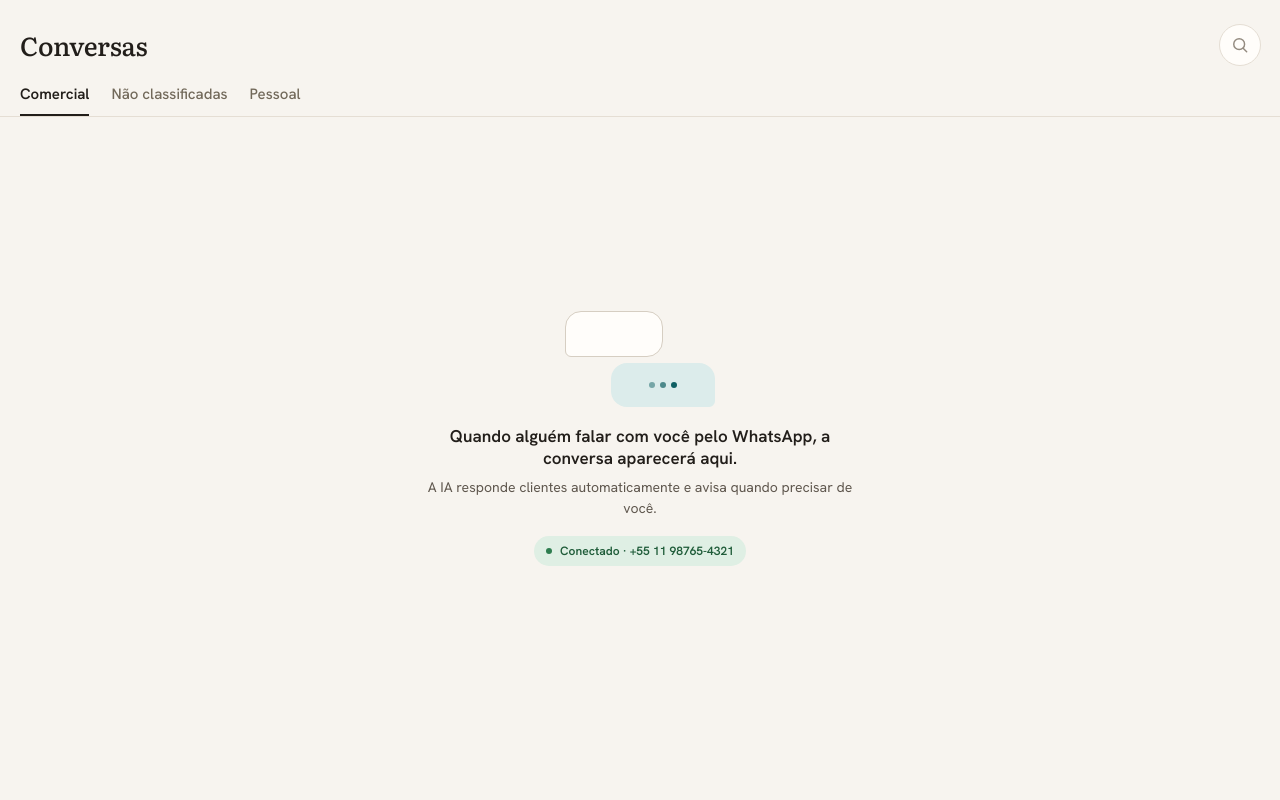
Test: composição de 1024 px em diante › o painel some e volta com a aba: C4 na Comercial, painel na Pessoal
Expected: the heading "Quando alguém falar com você pelo WhatsApp, a conversa aparecerá aqui." is shown, left=420, top=425, right=860, bottom=469
Expected: the text "Selecione uma conversa" is not shown
Click the tab "Pessoal". click: (275, 100)
box: left=250, top=84, right=301, bottom=116
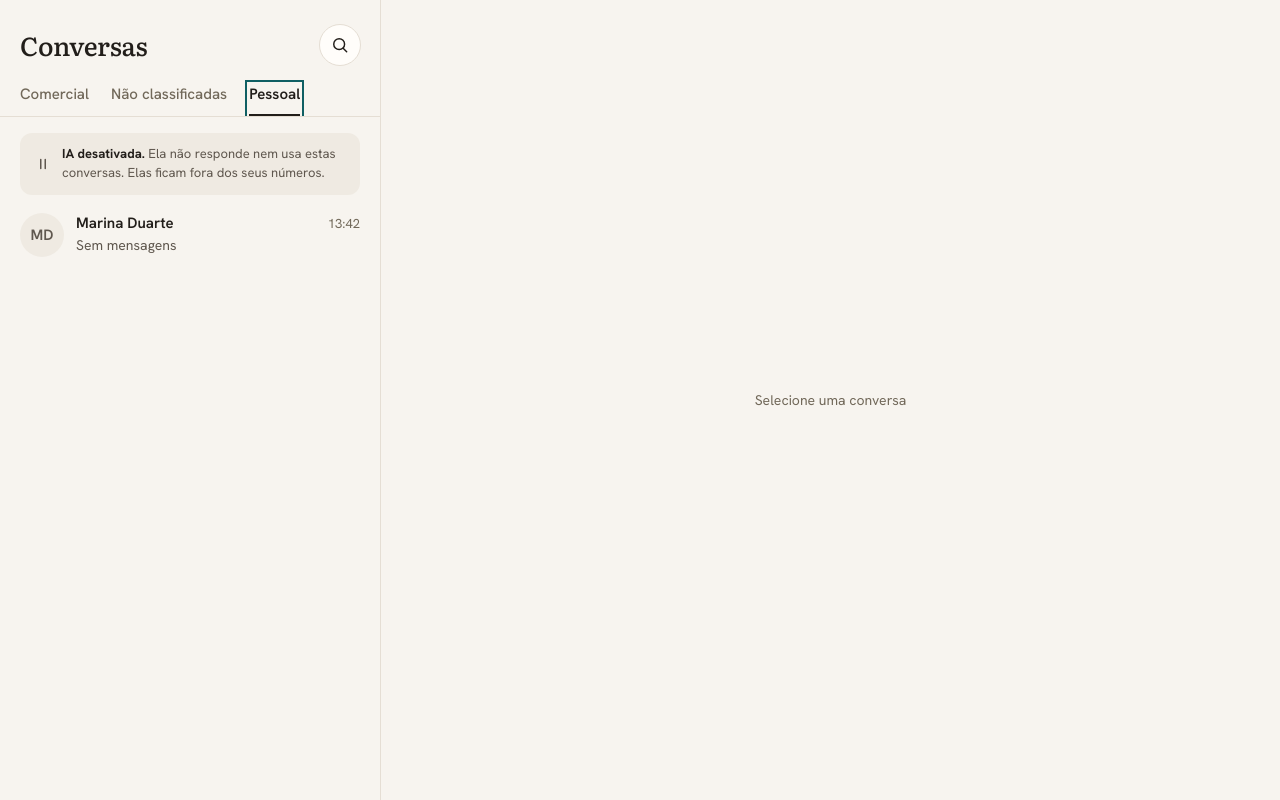
Expected: the text "Marina Duarte" is shown, left=76, top=213, right=174, bottom=233
Expected: the text "Selecione uma conversa" is shown, left=755, top=390, right=906, bottom=410
